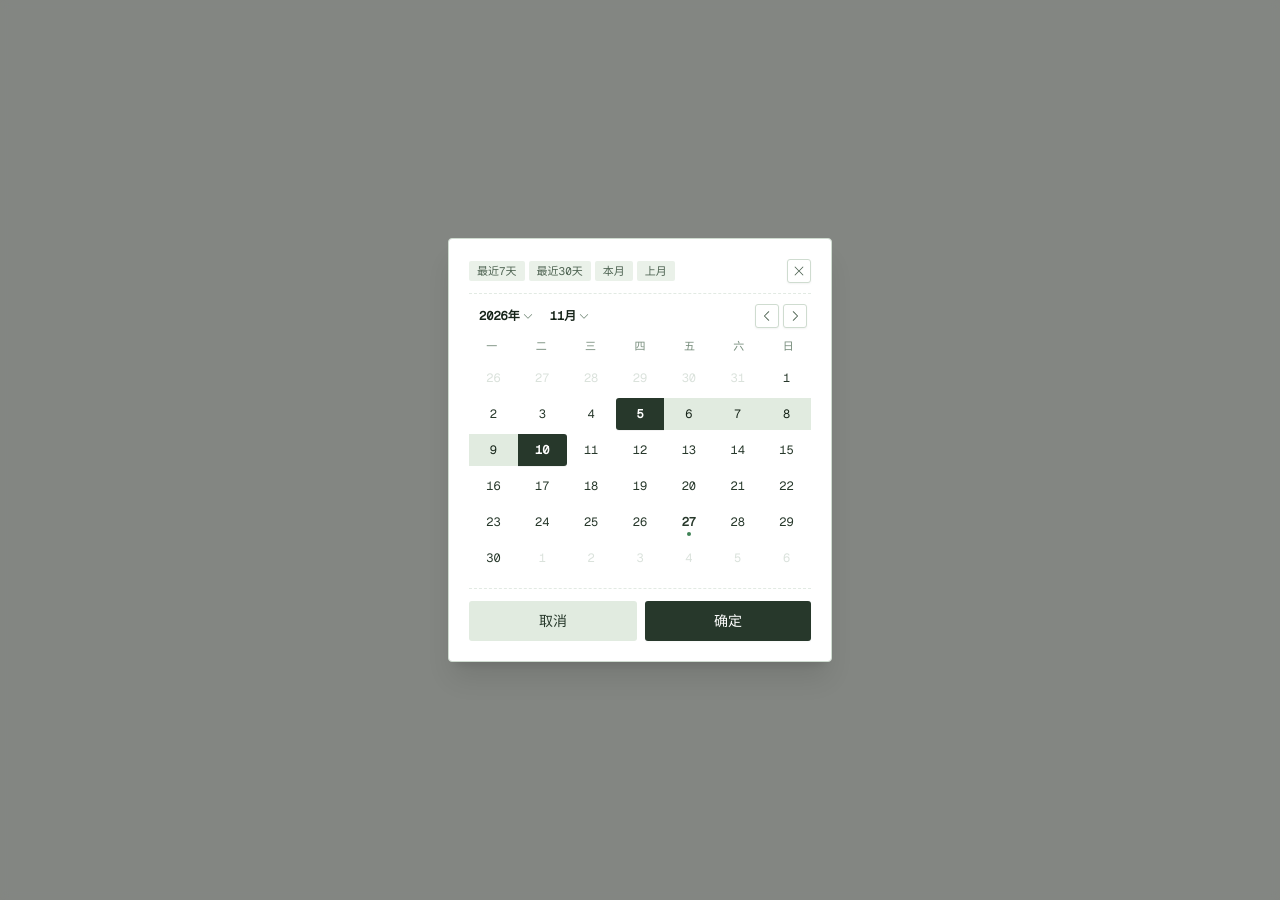
Test: PaperDatePickerModal › renders in range mode and selects start and end dates
Later steps or results of the test are not shown.
Expected: the button "最近7天" is shown, [469,260,525,281]
Expected: the button "本月" is shown, [595,260,633,281]
Click the button "12".
click(640, 450)  # box [616,434,664,466]
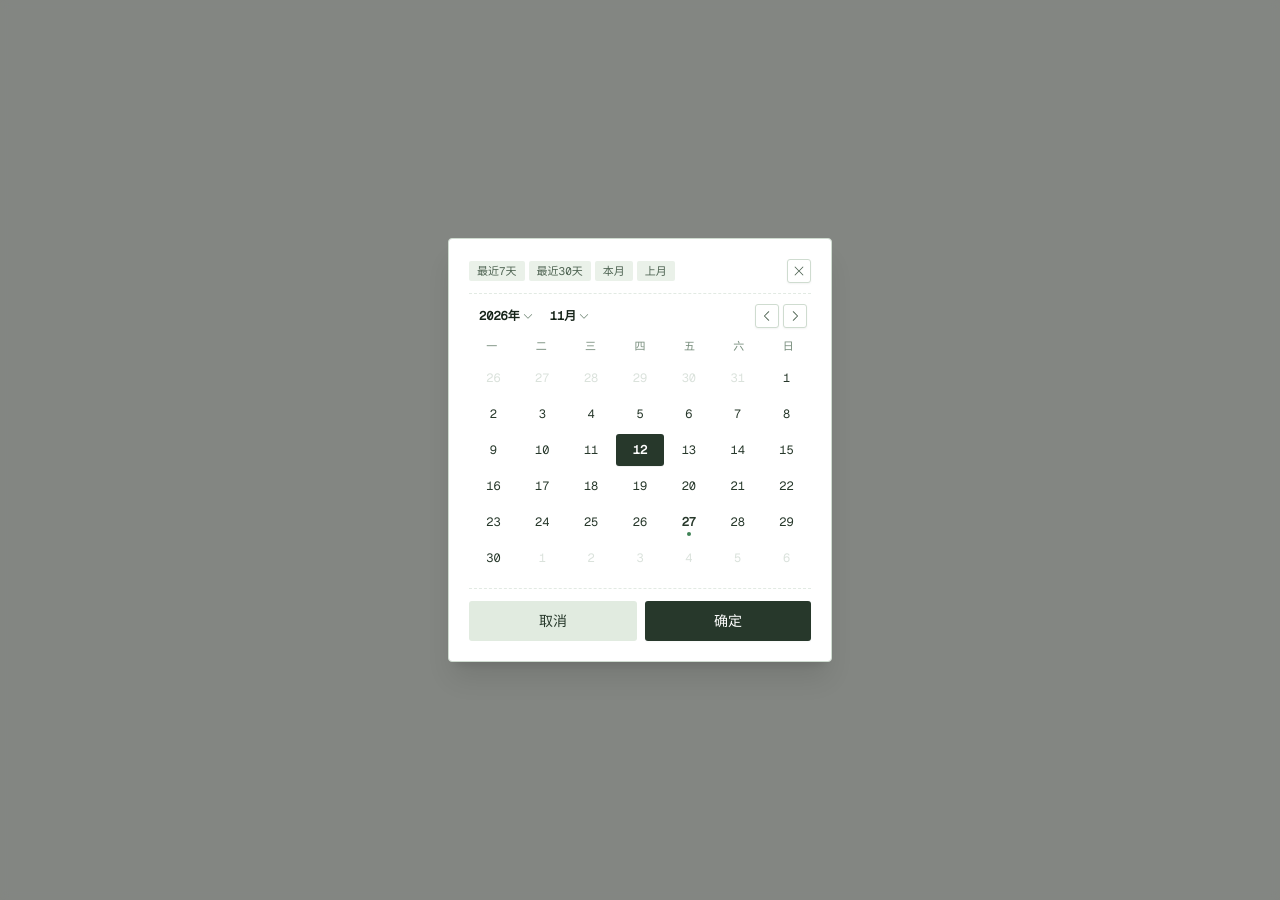
Click the button "18".
click(591, 486)  # box [567,470,616,502]
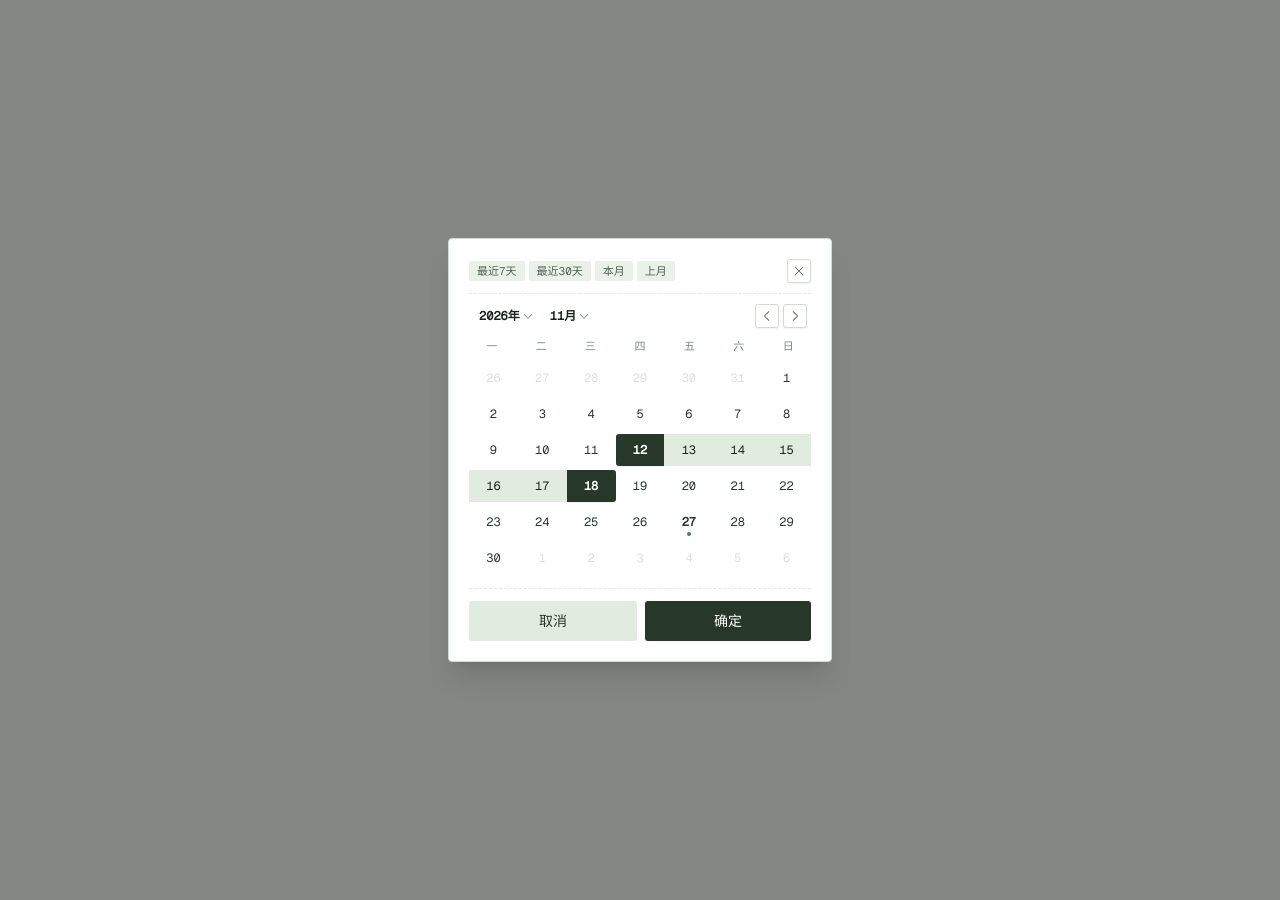
Expected: the button "18" has class "text-(--btn-primary-fg)", [567,470,616,502]
